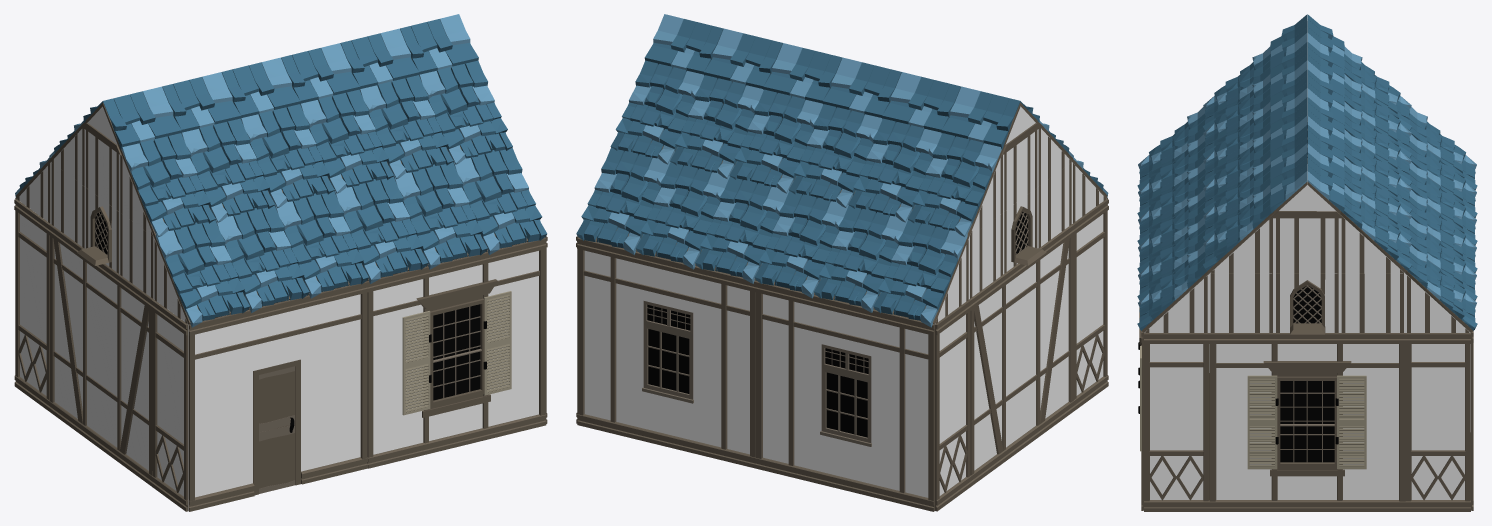
File: House_01_full.fbx
The picture shows the model from 3 angles, left to right: view 1: azimuth 30°, elevation 25°; view 2: azimuth 150°, elevation 25°; view 3: azimuth 270°, elevation 25°; orthographic projection. The views are drawn at different scales.
Visible parts, largest first — view 1: WINDOW_07_4, DOOR_05_2, WALL_02_2, WALL_01_1.003, WALL_01_1.002, ROOF_base_1.017, ROOF_base_1.023, ROOF_base_1.013, ROOF_base_1.015, ROOF_base_1.012, ROOF_base_1.016, ROOF_base_1.014 (+20 smaller); view 2: WINDOW_03_1.001, WINDOW_03_1, WALL_02_2, WALL_01_1.002, WALL_01_1.003, ROOF_base_1.005, ROOF_base_1.011, ROOF_base_1.001, ROOF_base_1, ROOF_base_1.003, ROOF_base_1.004, ROOF_base_1.002 (+20 smaller); view 3: WINDOW_07_3, WALL_01_1, WALL_01_1.001, ROOF_triangle_window_grid_9, ROOF_up_quad_2, ROOF_up_quad_3, ROOF_up_quad_4, ROOF_base_1.006, ROOF_base_1.018, ROOF_base_1, ROOF_base_1.012, ROOF_trinagle_left_wood_2 (+38 smaller).
Boxes of the visible parts, left/top/right/bottom form: WINDOW_07_4: left=367, top=237, right=546, bottom=468; DOOR_05_2: left=188, top=281, right=368, bottom=511; WALL_02_2: left=48, top=224, right=153, bottom=486; WALL_01_1.003: left=151, top=299, right=188, bottom=511; WALL_01_1.002: left=14, top=199, right=50, bottom=410; ROOF_base_1.017: left=154, top=220, right=249, bottom=327; ROOF_base_1.023: left=120, top=133, right=215, bottom=237; ROOF_base_1.013: left=393, top=162, right=487, bottom=269; ROOF_base_1.015: left=275, top=191, right=368, bottom=298; ROOF_base_1.012: left=453, top=147, right=547, bottom=255; ROOF_base_1.016: left=215, top=205, right=309, bottom=313; ROOF_base_1.014: left=334, top=176, right=428, bottom=283; WINDOW_03_1.001: left=755, top=281, right=934, bottom=511; WINDOW_03_1: left=577, top=237, right=756, bottom=468; WALL_02_2: left=969, top=224, right=1074, bottom=485; WALL_01_1.002: left=935, top=299, right=971, bottom=511; WALL_01_1.003: left=1072, top=199, right=1108, bottom=410; ROOF_base_1.005: left=873, top=220, right=968, bottom=327; ROOF_base_1.011: left=907, top=133, right=1003, bottom=236; ROOF_base_1.001: left=635, top=162, right=729, bottom=269; ROOF_base_1: left=576, top=147, right=670, bottom=254; ROOF_base_1.003: left=754, top=191, right=848, bottom=298; ROOF_base_1.004: left=814, top=205, right=907, bottom=312; ROOF_base_1.002: left=695, top=176, right=788, bottom=283; WINDOW_07_3: left=1209, top=333, right=1405, bottom=511; WALL_01_1: left=1405, top=333, right=1470, bottom=511; WALL_01_1.001: left=1144, top=333, right=1209, bottom=511; ROOF_triangle_window_grid_9: left=1274, top=273, right=1340, bottom=334; ROOF_up_quad_2: left=1209, top=273, right=1274, bottom=332; ROOF_up_quad_3: left=1340, top=273, right=1405, bottom=332; ROOF_up_quad_4: left=1274, top=218, right=1340, bottom=273; ROOF_base_1.006: left=1340, top=185, right=1411, bottom=273; ROOF_base_1.018: left=1203, top=185, right=1274, bottom=273; ROOF_base_1: left=1405, top=245, right=1477, bottom=332; ROOF_base_1.012: left=1137, top=245, right=1208, bottom=332; ROOF_trinagle_left_wood_2: left=1144, top=274, right=1209, bottom=332.
Size of the model in its own units: 656 by 559 by 520.
